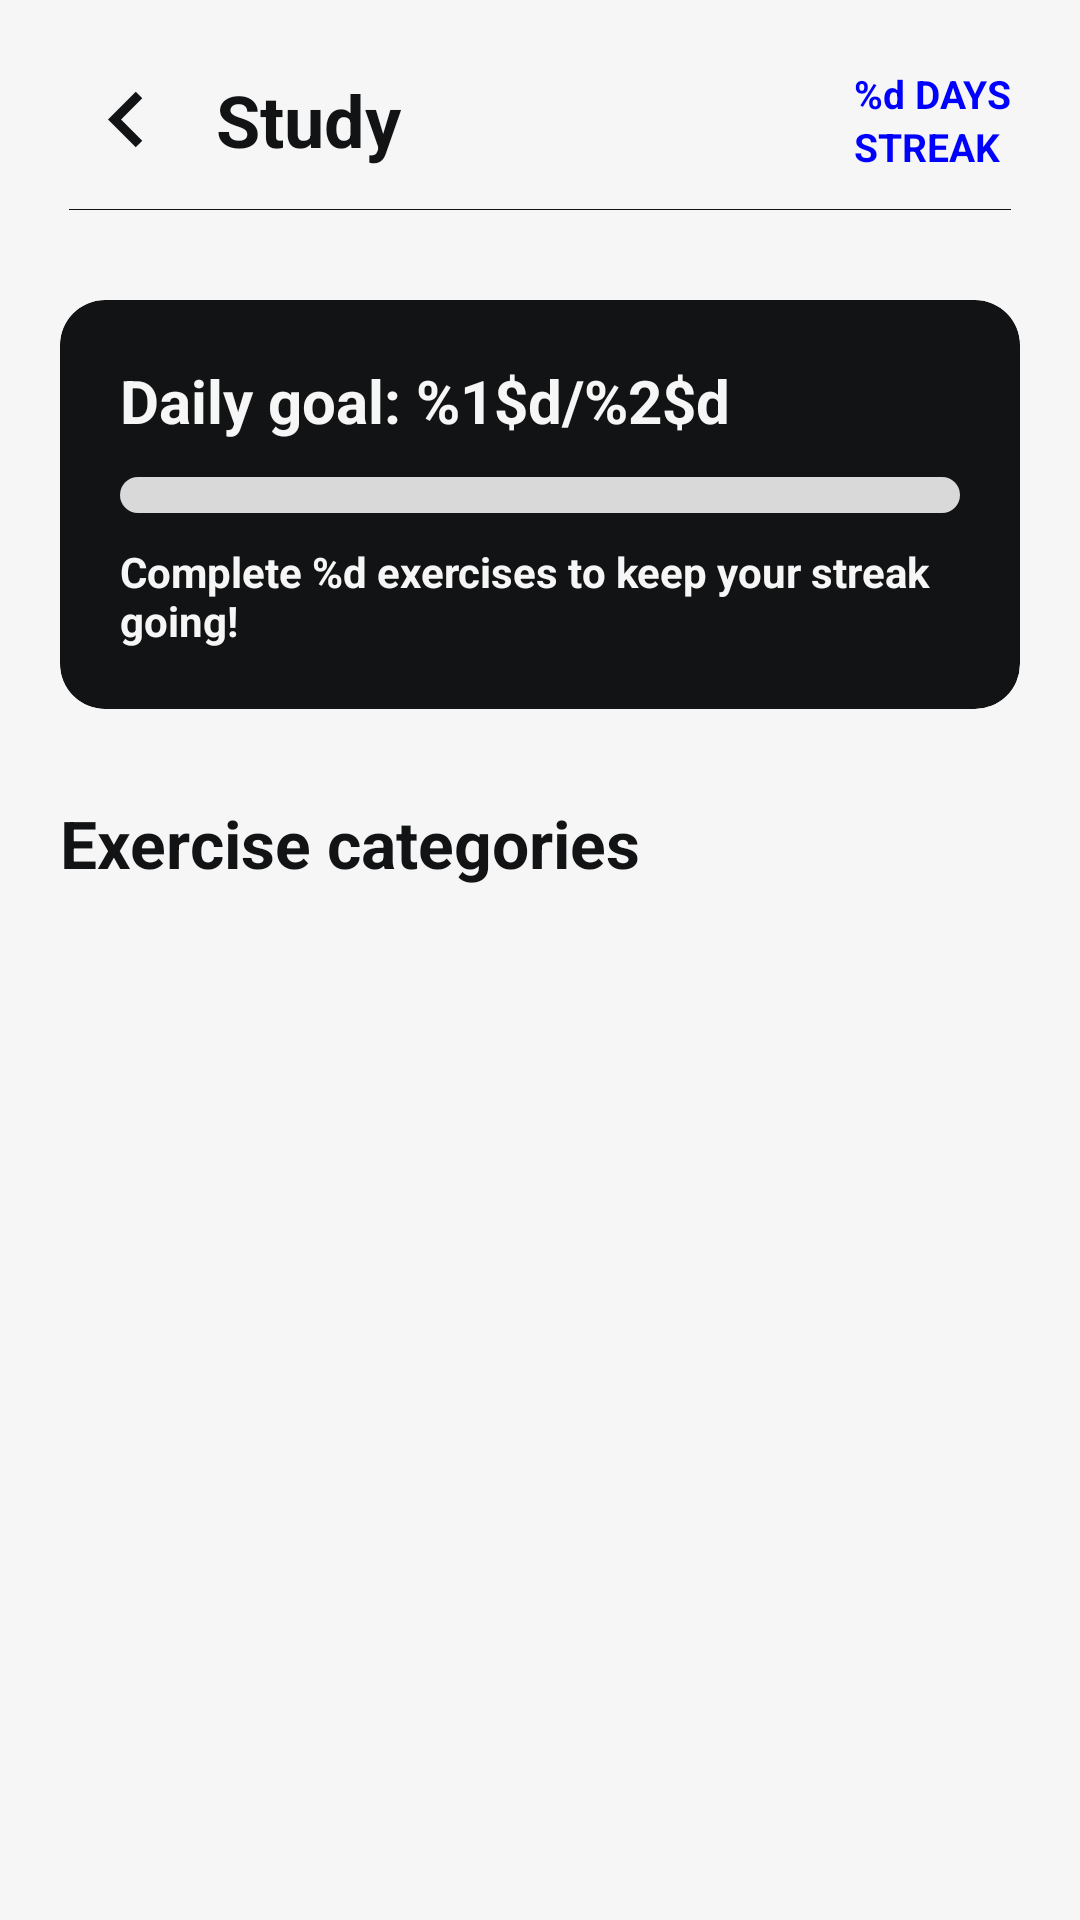

Icons on this 1080*1920 Android screen, each with the point to tap as point (x, y):
arrow left: point (125, 119)
